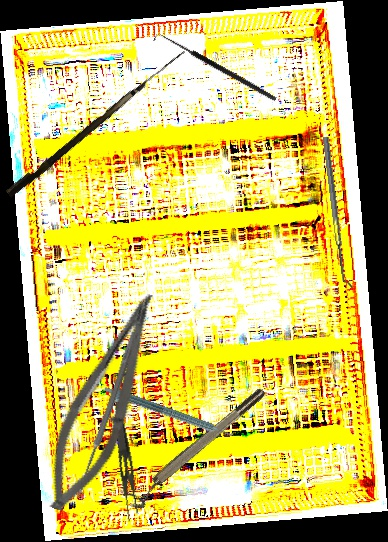Dressing Forceps: (102, 401, 145, 523)
Fixation Ring: (121, 384, 274, 514)
Handpiece: (100, 383, 236, 446)
Hook Surgical: (5, 42, 186, 201), (152, 30, 278, 108)
Micro Scissor: (32, 280, 170, 522)
Spatula Surgical: (322, 135, 354, 290)
Surgical Spoon: (74, 330, 139, 498)
